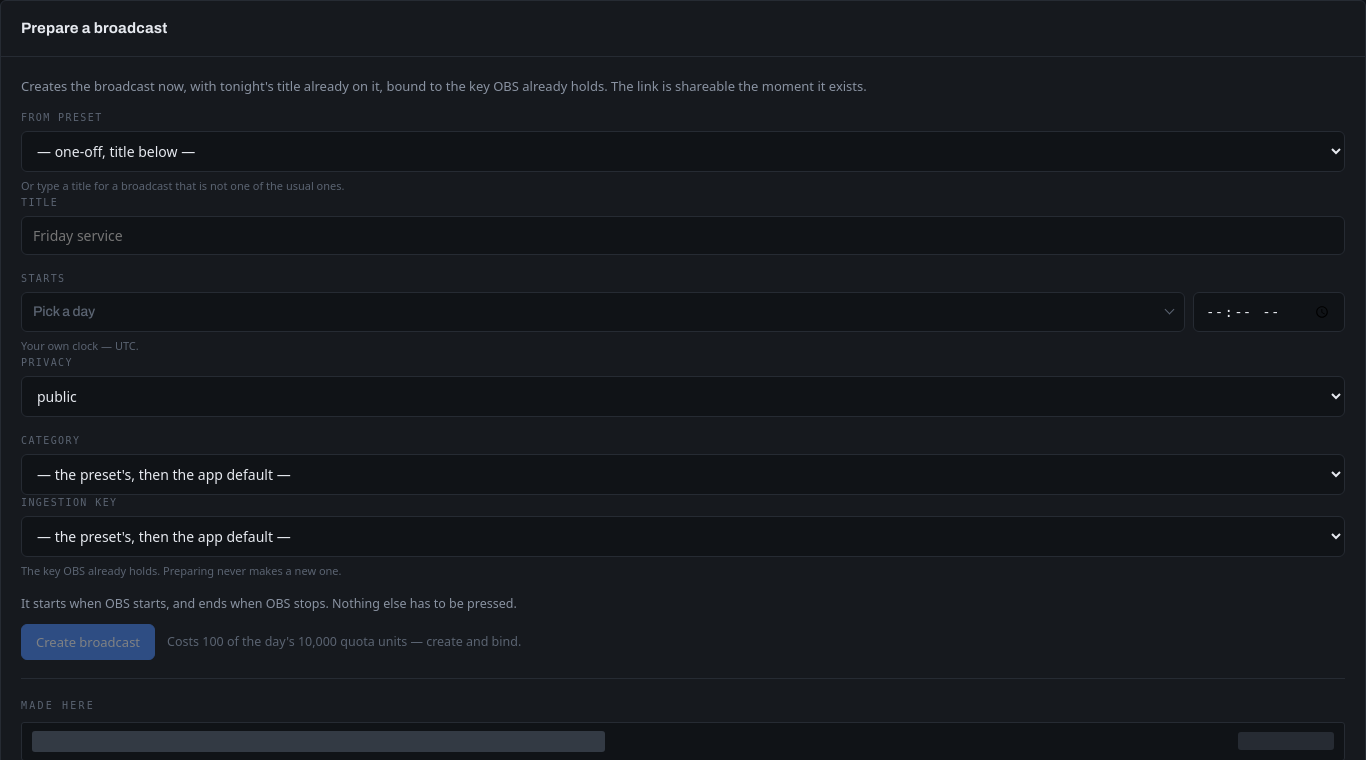
it: PrepareBroadcast › reports a refusal in the app's own words rather than failing silently
Select "Friday service" in the dropdown labelled "From preset": (683, 152) [21,131,1345,172]
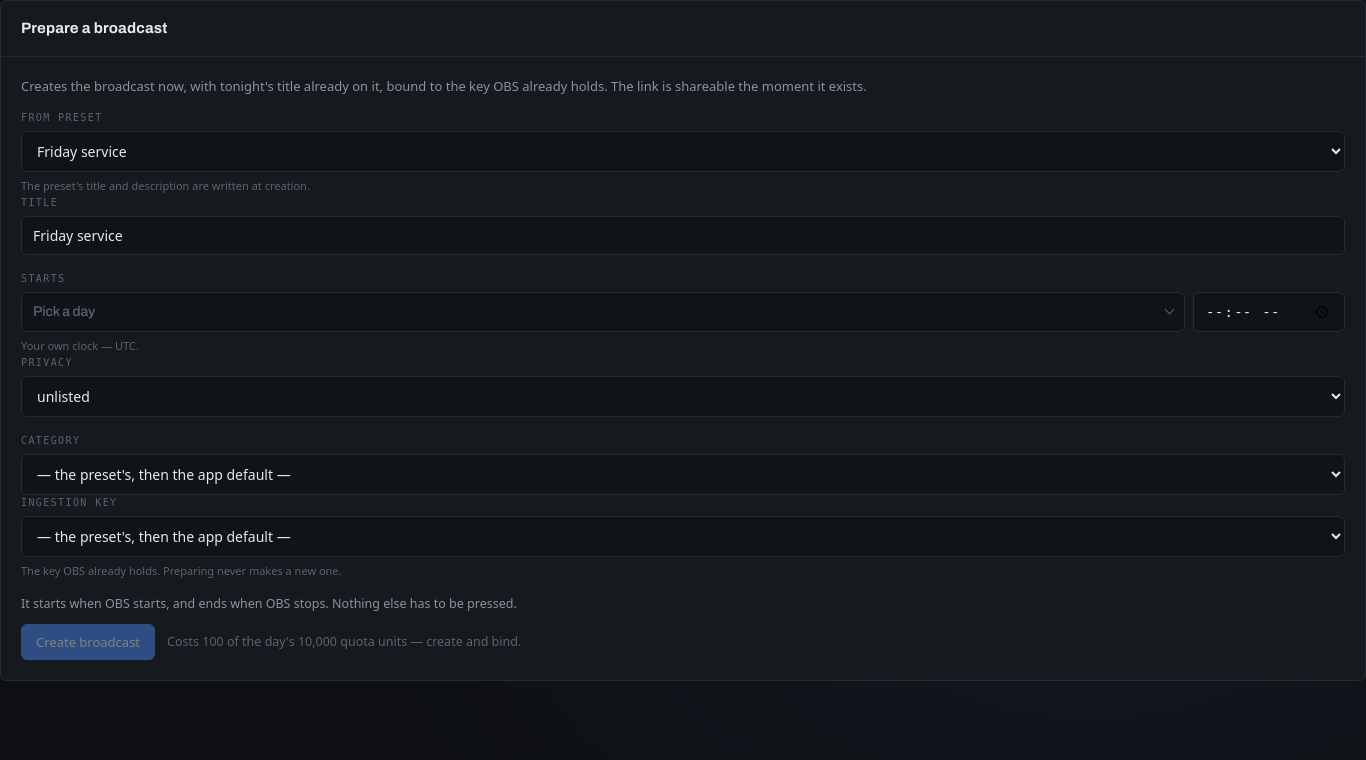
Click the button named "Starts ": click(64, 312) [21,292,1185,332]
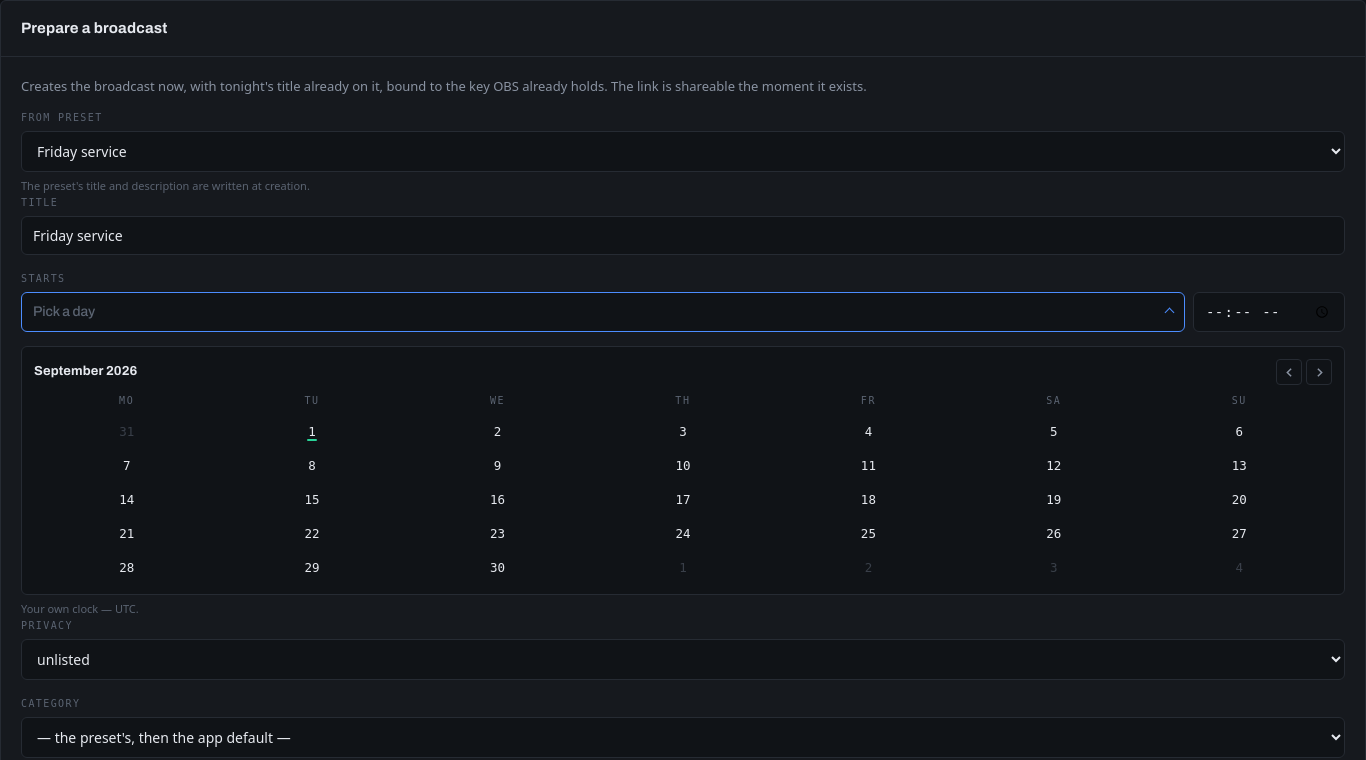
Click the button named "Friday, September 4th, 2026": click(868, 431) [777,415,960,447]
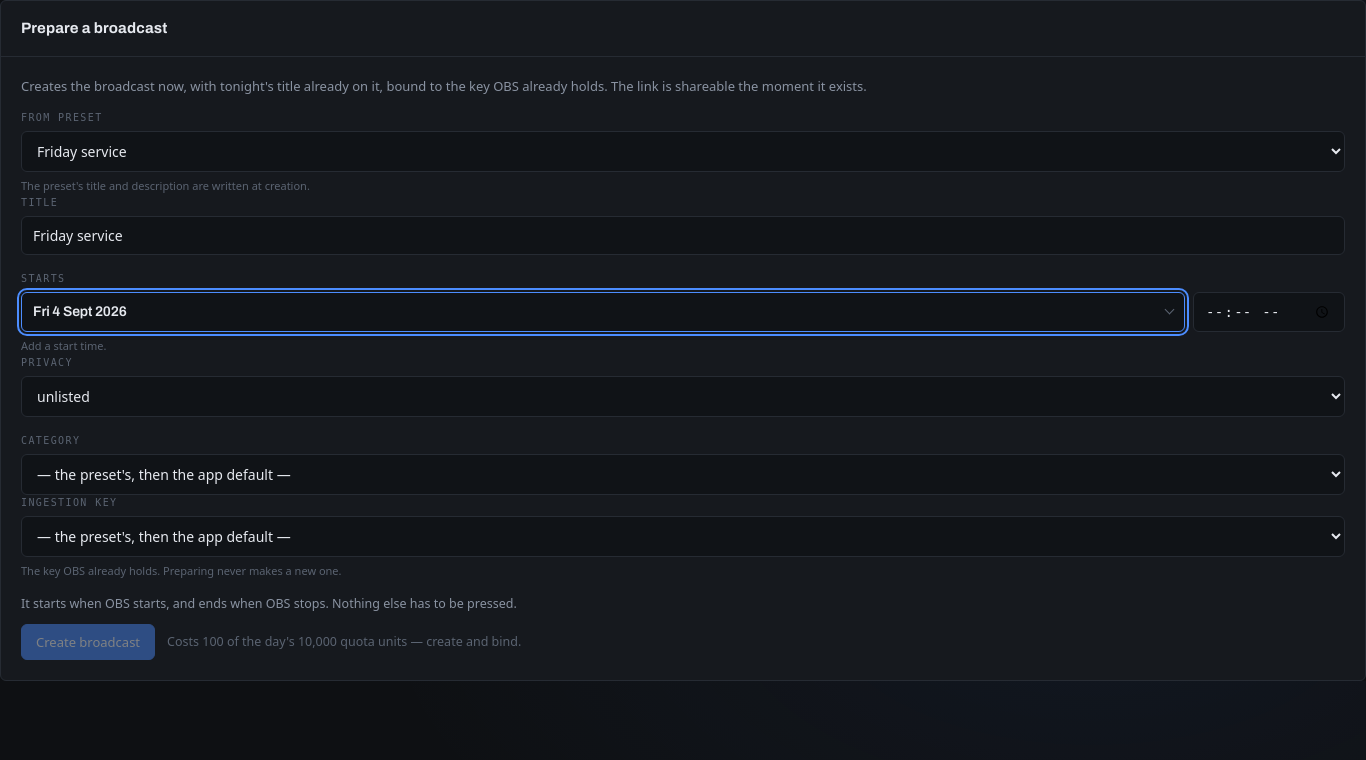
In the time field named "Starts — time of day": (1269, 312) [1193,292,1345,332], type "19:00"
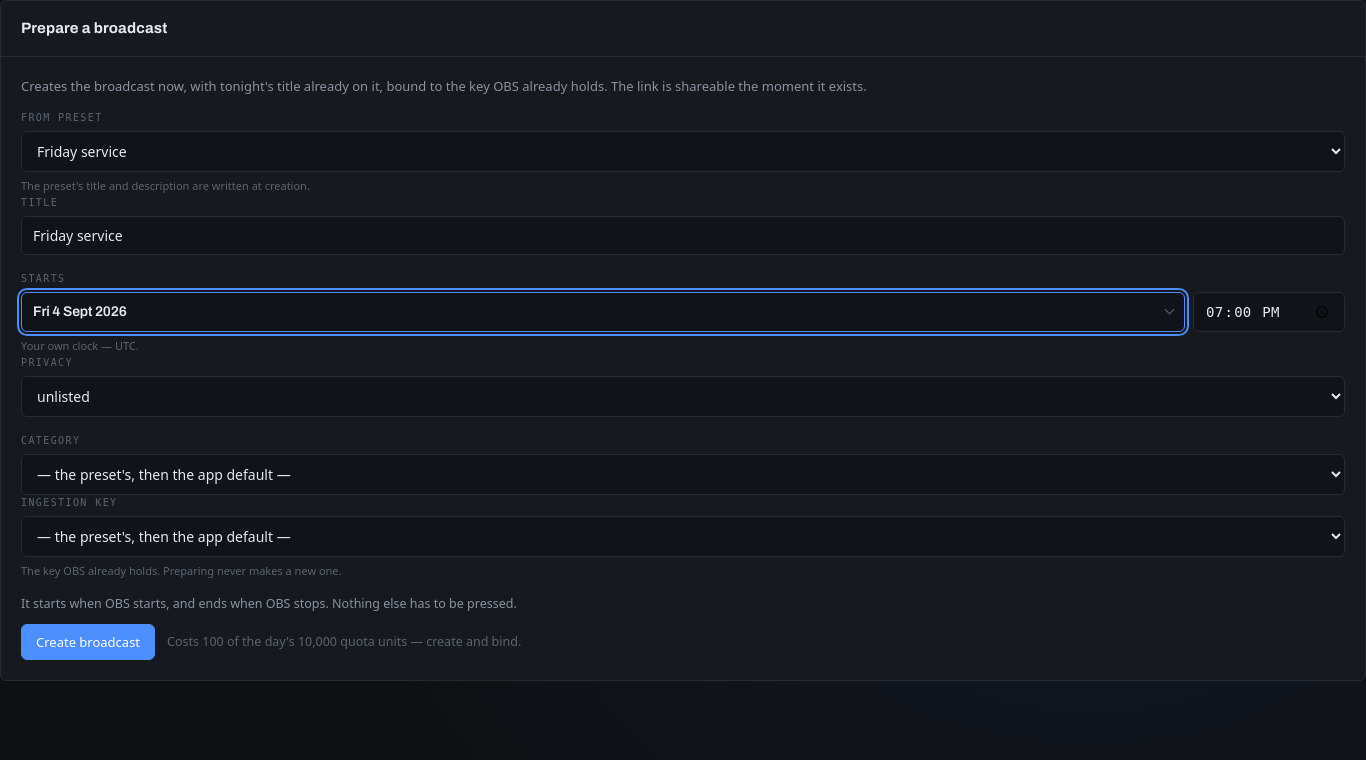
Click the button "Create broadcast": click(88, 642) [21,624,155,660]
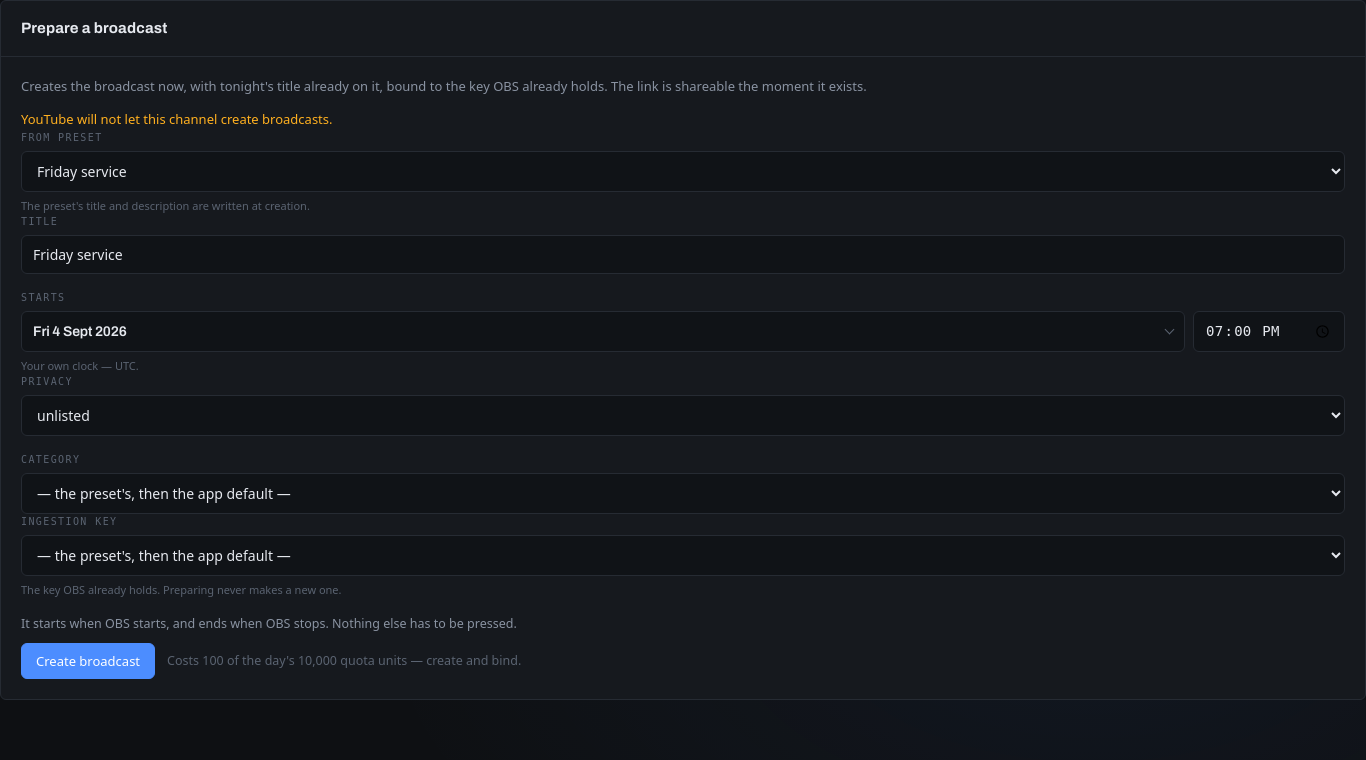
Now the text "YouTube will not let this channel create broadcasts." is shown, box [21,110,332,130]
